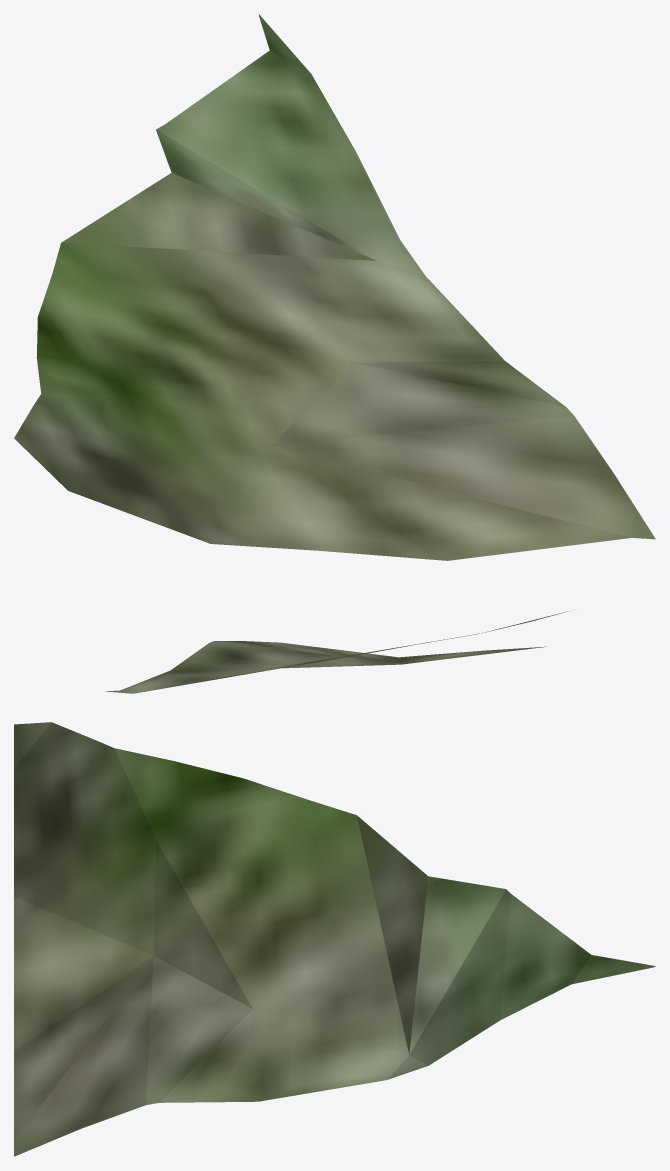
3 views of the same model, one above another, from view 1: azimuth 30°, elevation 25°; view 2: azimuth 150°, elevation 25°; view 3: azimuth 270°, elevation 25° (orthographic). The views are drawn at different scales.
Bounding box in the file's own units: 0.982 × 0.3565 × 1.09.
Materials: 1 (1 with a texture image).
